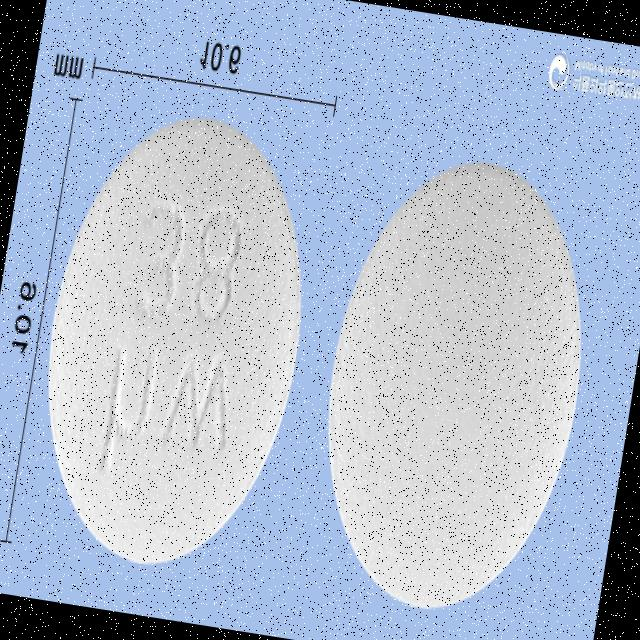Cirokan: (13, 92, 339, 590), (293, 140, 616, 632)
